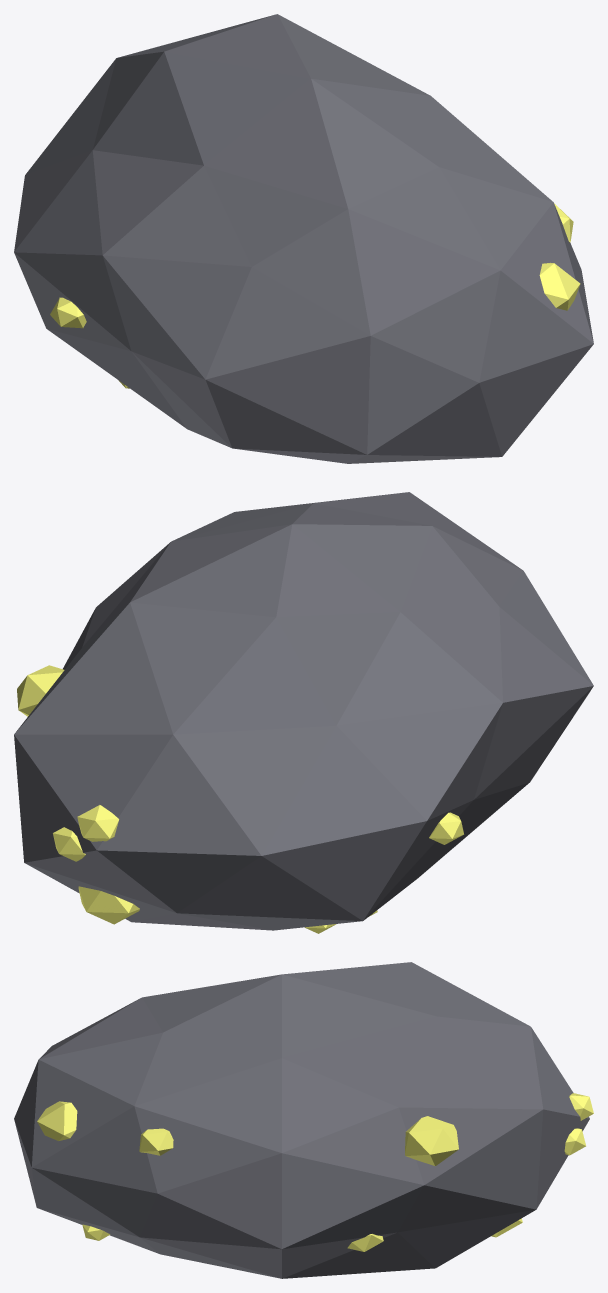
The model's file is glowstone_2.fbx.
3 views of the same model, one above another, from view 1: azimuth 30°, elevation 25°; view 2: azimuth 150°, elevation 25°; view 3: azimuth 270°, elevation 25° (orthographic). The views are drawn at different scales.
Parts seen in each view (by area): view 1: glowstone1; view 2: glowstone1; view 3: glowstone1.
Part boxes in pixels (x1,y1,x2,y2): glowstone1: [14, 14, 593, 463]; glowstone1: [14, 492, 593, 933]; glowstone1: [14, 962, 593, 1278].
Size of the model in its own units: 0.8353 by 0.6813 by 1.22.
